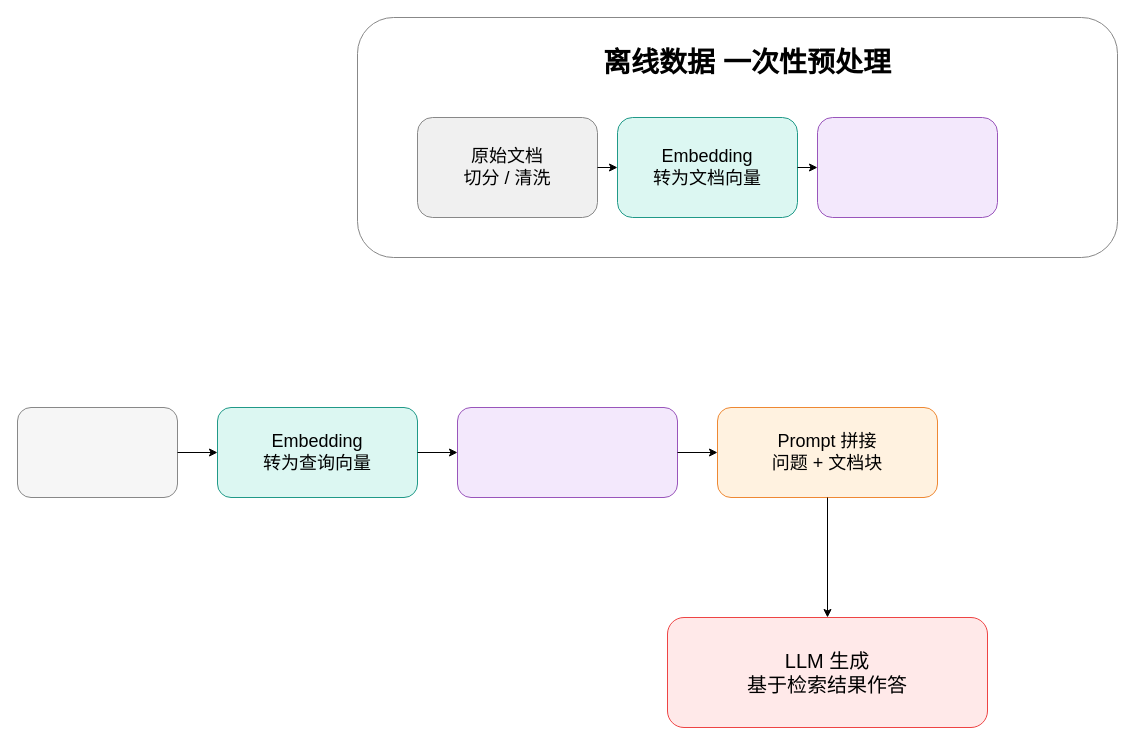
The diagram is 1135 pixels wide and 745 high, and some of its shapes have lost their labels. The centre of each missing label's shape, as x and y in pixels:
"写入 向量数据库" goes at pixel 907 167.
"向量数据库 相似度检索 Top-K" goes at pixel 567 452.
"用户提问" goes at pixel 97 452.
